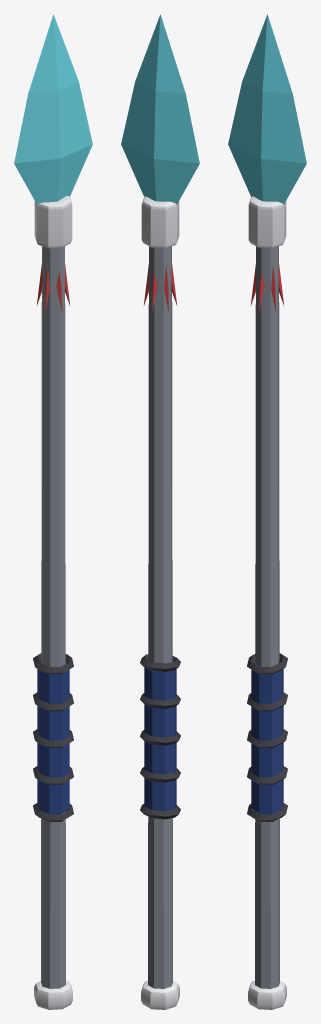
Rendered from DiamondSpear.fbx.
The picture shows the model from 3 angles, left to right: view 1: azimuth 30°, elevation 25°; view 2: azimuth 150°, elevation 25°; view 3: azimuth 330°, elevation 25°; orthographic projection.
Parts seen in each view (by area): view 1: DiamondSpear; view 2: DiamondSpear; view 3: DiamondSpear.
Part boxes in pixels (box(x1,y1,x2,y2)): DiamondSpear: box(14, 14, 92, 1009); DiamondSpear: box(121, 14, 199, 1009); DiamondSpear: box(228, 14, 306, 1009).
Size of the model in its own units: 0.56 by 6.72 by 0.2614.
1 material, 1 textured.
